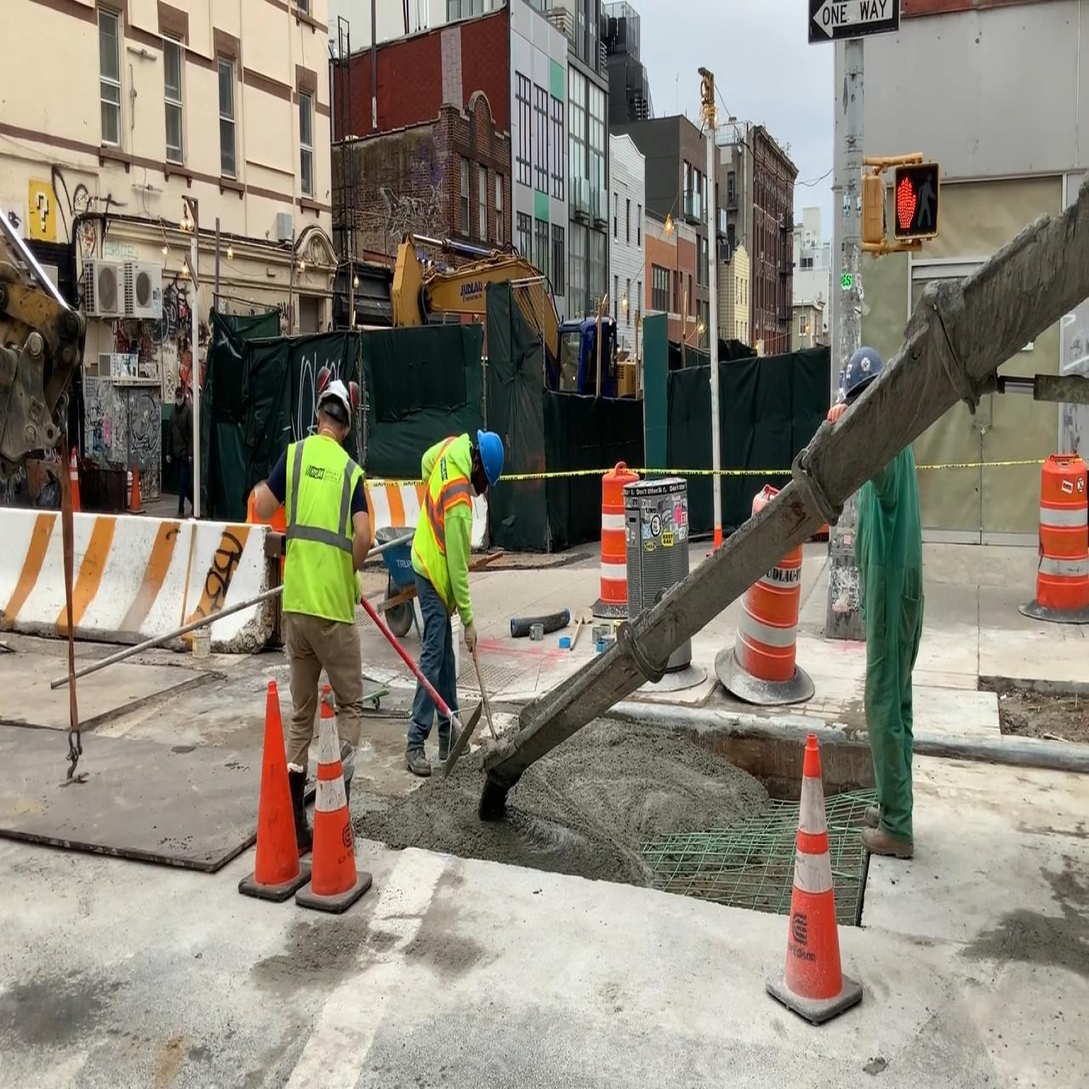NO_Safety_Vest: (857, 445, 922, 621)
Person: (254, 363, 372, 845), (826, 343, 924, 860), (397, 418, 515, 790)
Safety_Vest: (282, 435, 366, 632), (412, 438, 474, 620)
